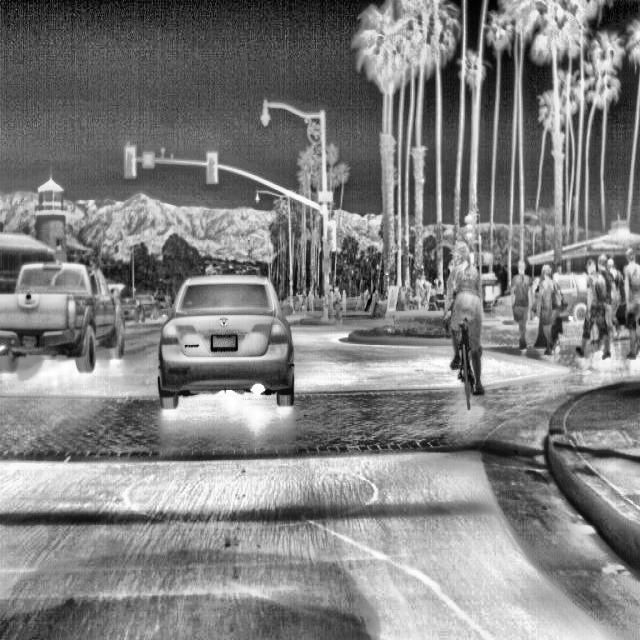car: (163, 261, 310, 417), (9, 242, 130, 392)
light: (236, 79, 292, 132), (248, 180, 282, 214)
person: (436, 251, 489, 422)
person and bycle: (536, 262, 574, 357), (614, 247, 640, 363), (585, 260, 611, 365), (509, 255, 531, 360)
trafficlight: (197, 123, 232, 200), (116, 135, 164, 188), (311, 204, 346, 248)
